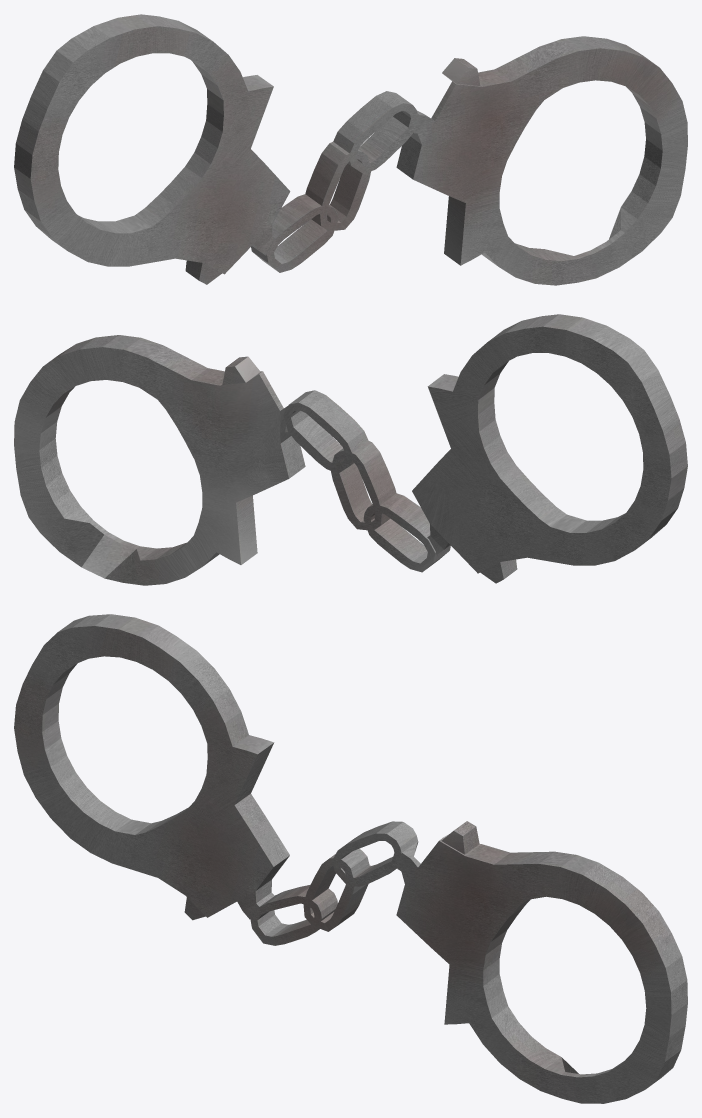
File: handcuffs.glb
3 renders of one model, top to bottom at view 1: azimuth 30°, elevation 25°; view 2: azimuth 150°, elevation 25°; view 3: azimuth 330°, elevation 25°, orthographic.
Parts seen in each view (by area): view 1: Circle.002; view 2: Circle.002; view 3: Circle.002.
Part boxes in pixels (<box>): Circle.002: <box>14,14,687,285</box>; Circle.002: <box>14,314,687,585</box>; Circle.002: <box>14,614,687,1103</box>.
Size of the model in its own units: 264 by 139 by 12.25.
1 material, 1 textured.
